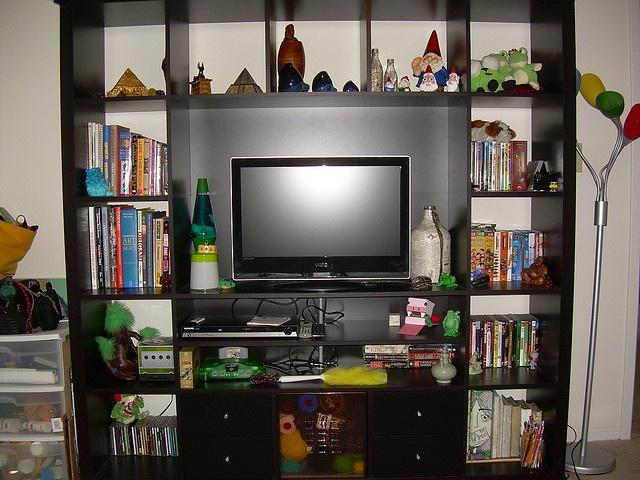AIO PC-Monitor-TV: (229, 154, 410, 292)
Rak: (60, 0, 576, 478)
